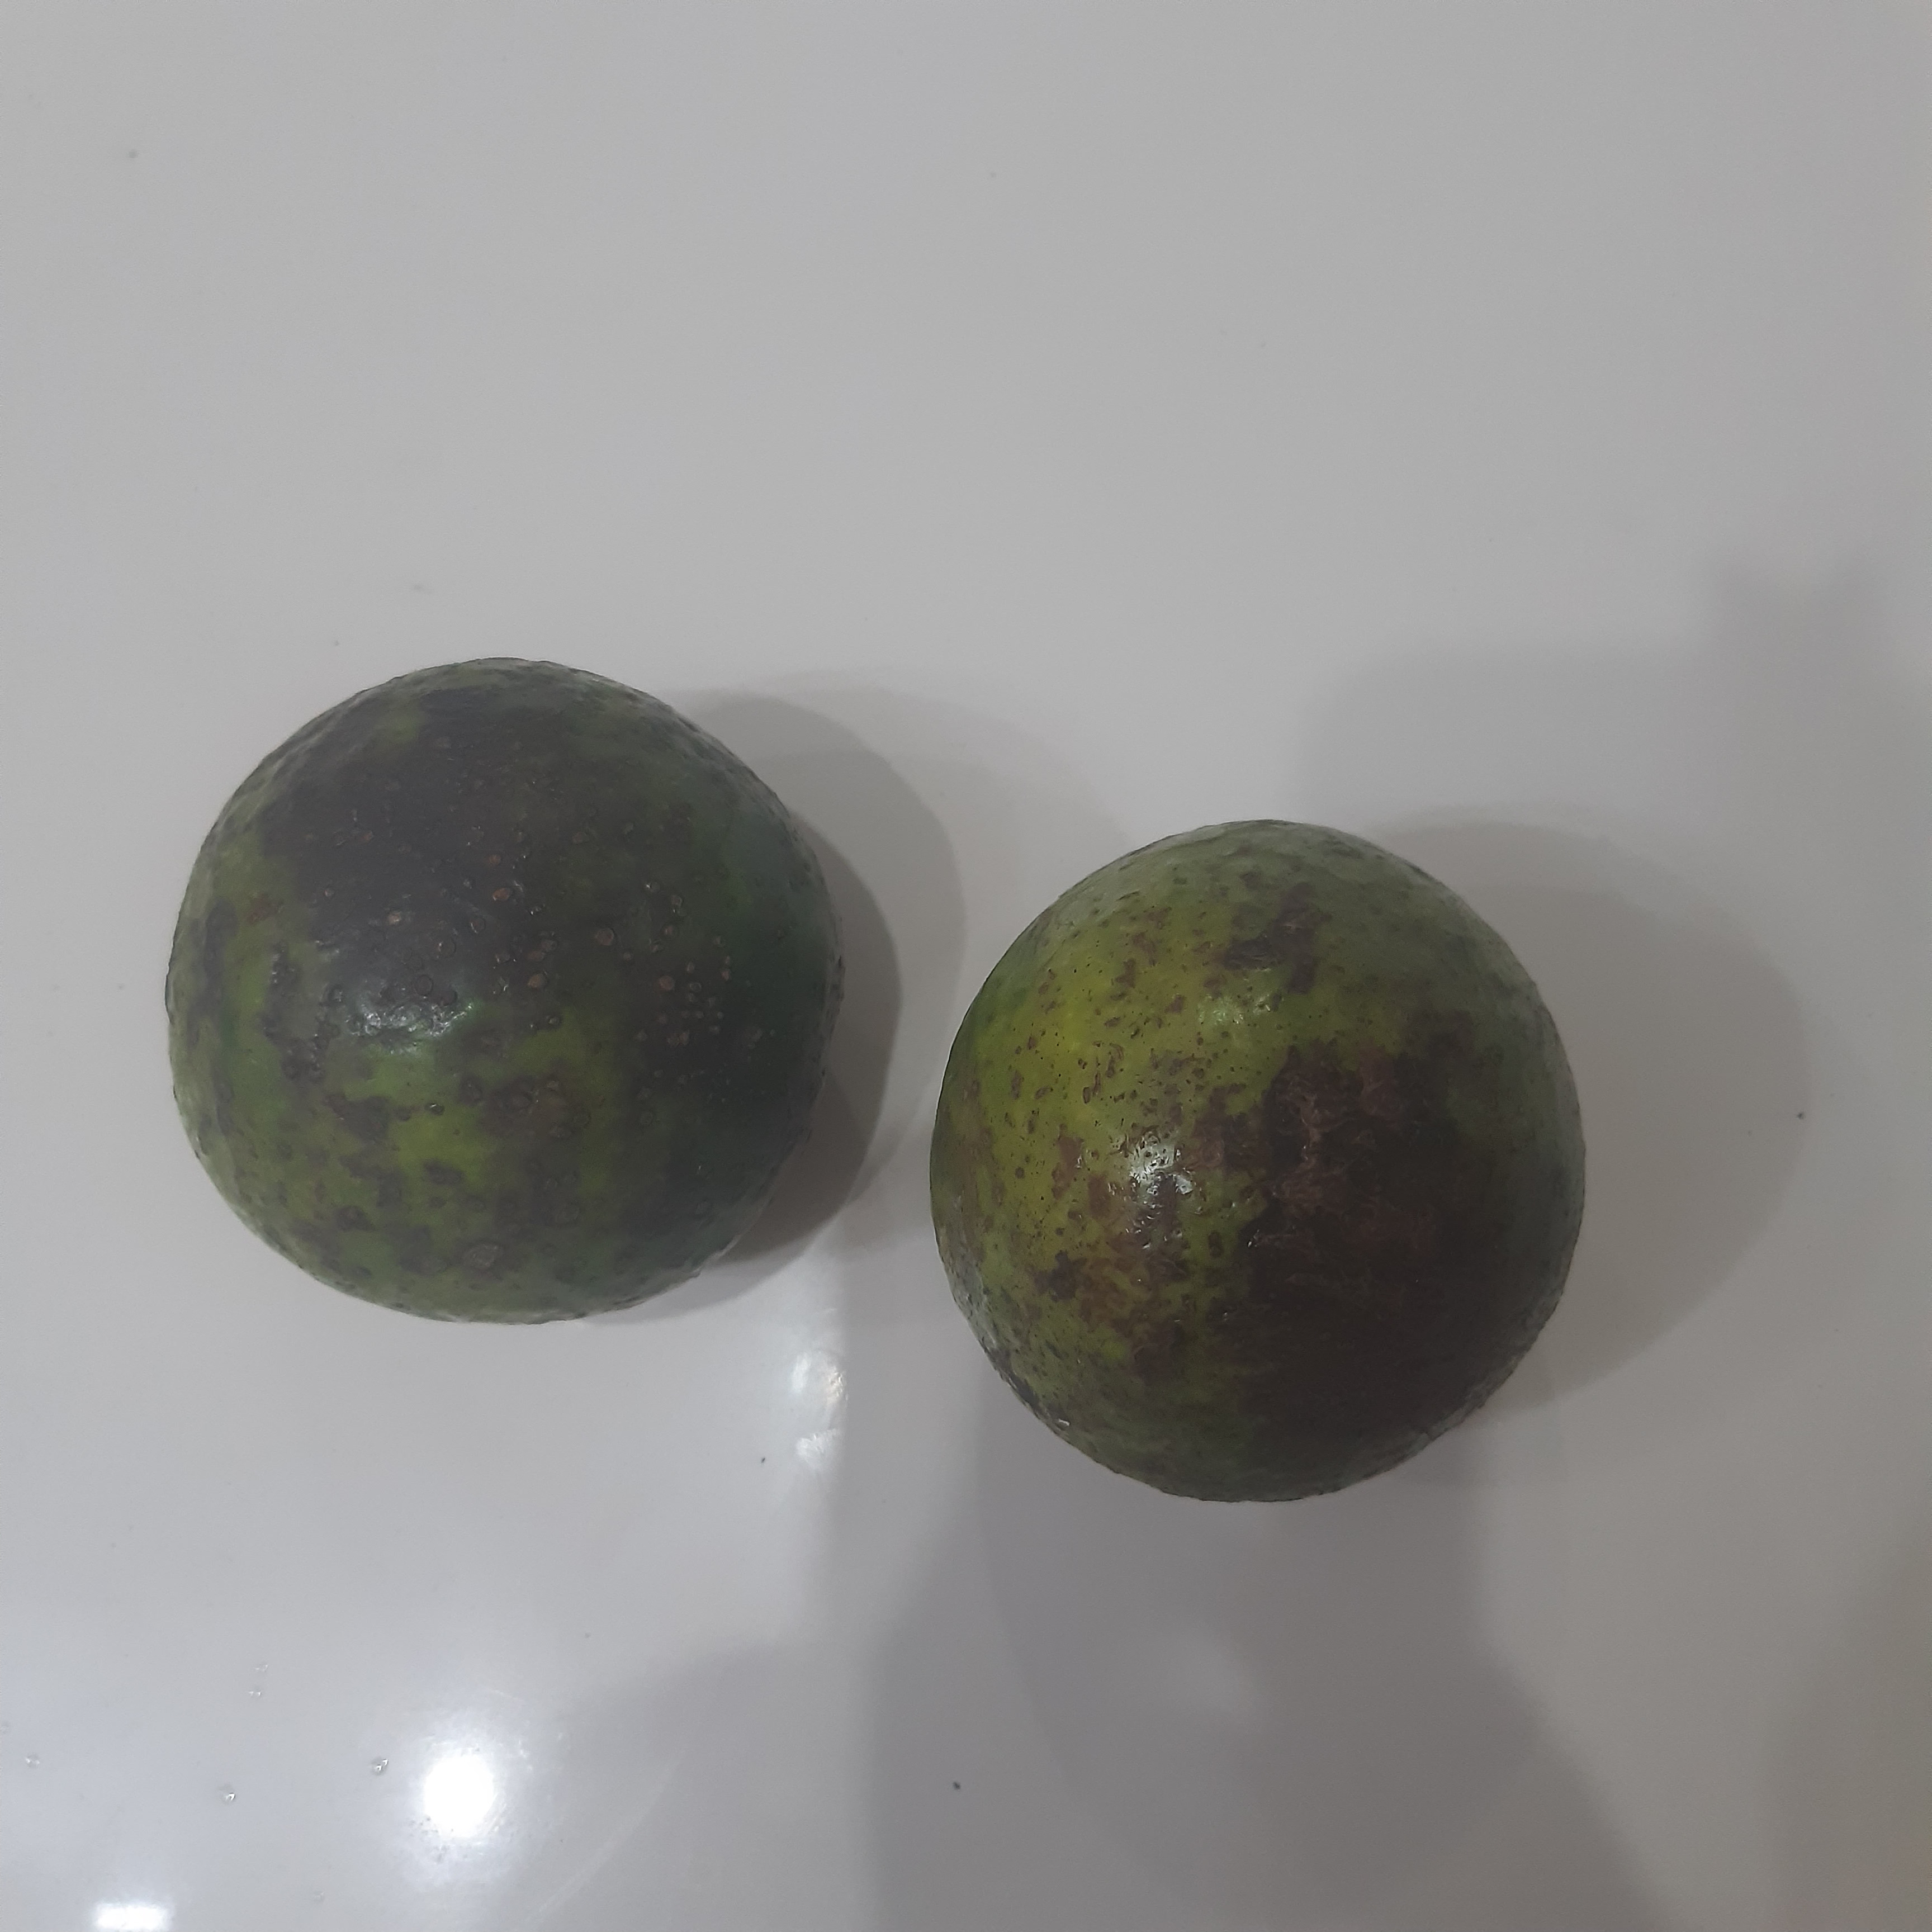Bo: (165, 655, 849, 1329), (925, 819, 1591, 1511)
